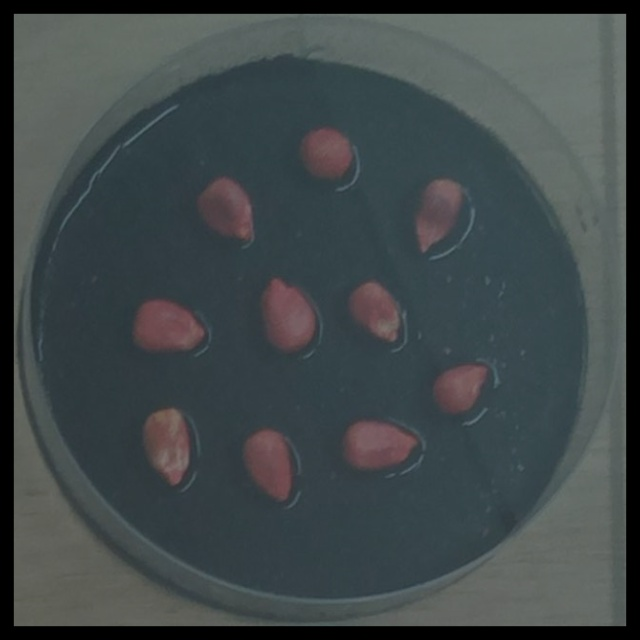Zea mays: (123, 291, 214, 365), (253, 269, 325, 362), (406, 171, 477, 265), (134, 400, 200, 500), (334, 411, 428, 480), (189, 169, 261, 250), (340, 274, 411, 356), (234, 424, 299, 512), (427, 355, 497, 425), (293, 120, 359, 188)
